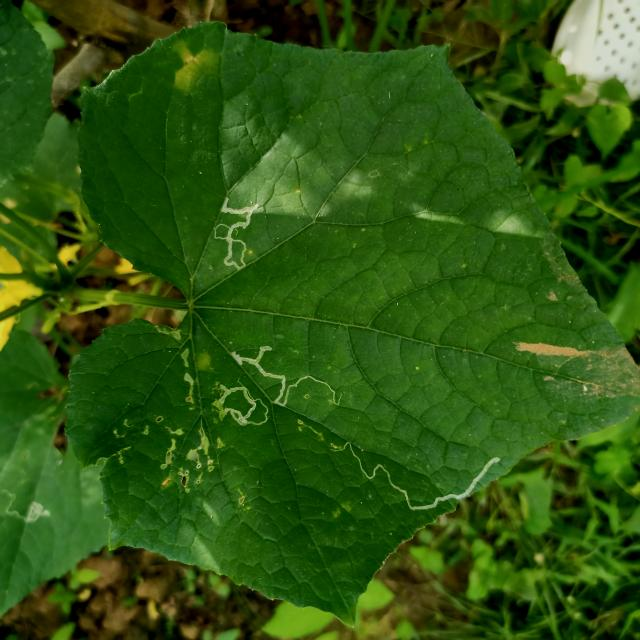disease_cucumber: (172, 38, 210, 88)
